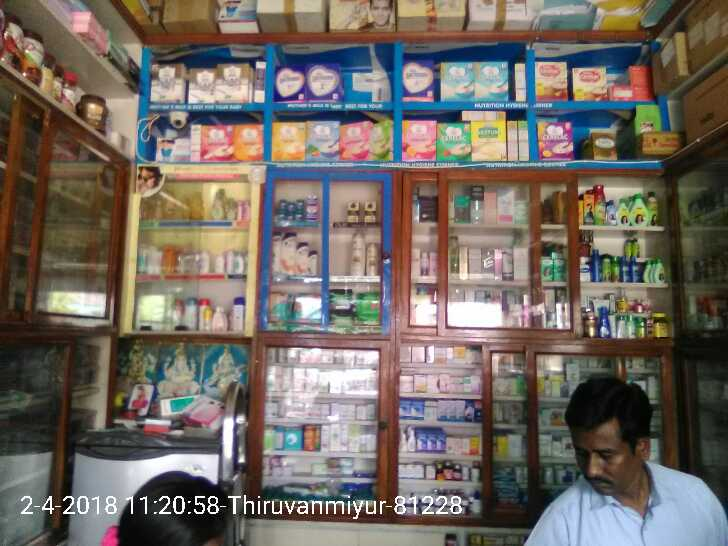vicks: (277, 194, 319, 220)
